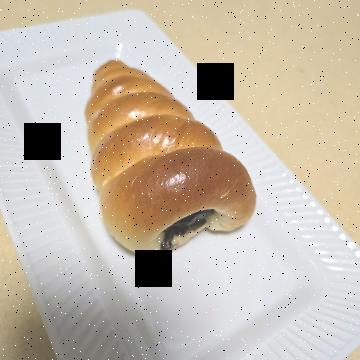cream horn: (50, 98, 278, 286)
